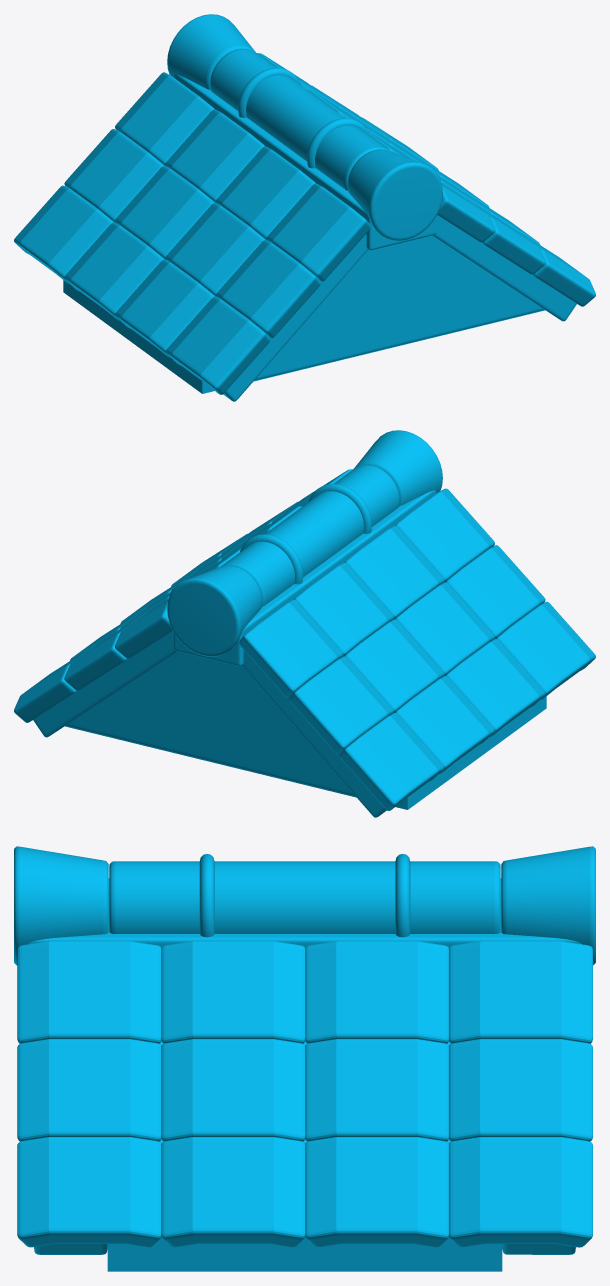
Rendered from SM_Wood_Roof_07.fbx.
3 renders of one model, top to bottom at view 1: azimuth 30°, elevation 25°; view 2: azimuth 150°, elevation 25°; view 3: azimuth 270°, elevation 25°, orthographic. The views are drawn at different scales.
Visible parts, largest first — view 1: SM_Wood_Roof_07; view 2: SM_Wood_Roof_07; view 3: SM_Wood_Roof_07.
Part boxes in pixels (x1,y1,x2,y2): SM_Wood_Roof_07: (14,14,595,401); SM_Wood_Roof_07: (14,430,595,817); SM_Wood_Roof_07: (14,846,595,1271).
Bounding box in the file's own units: 2.75 × 1.42 × 2.5.
